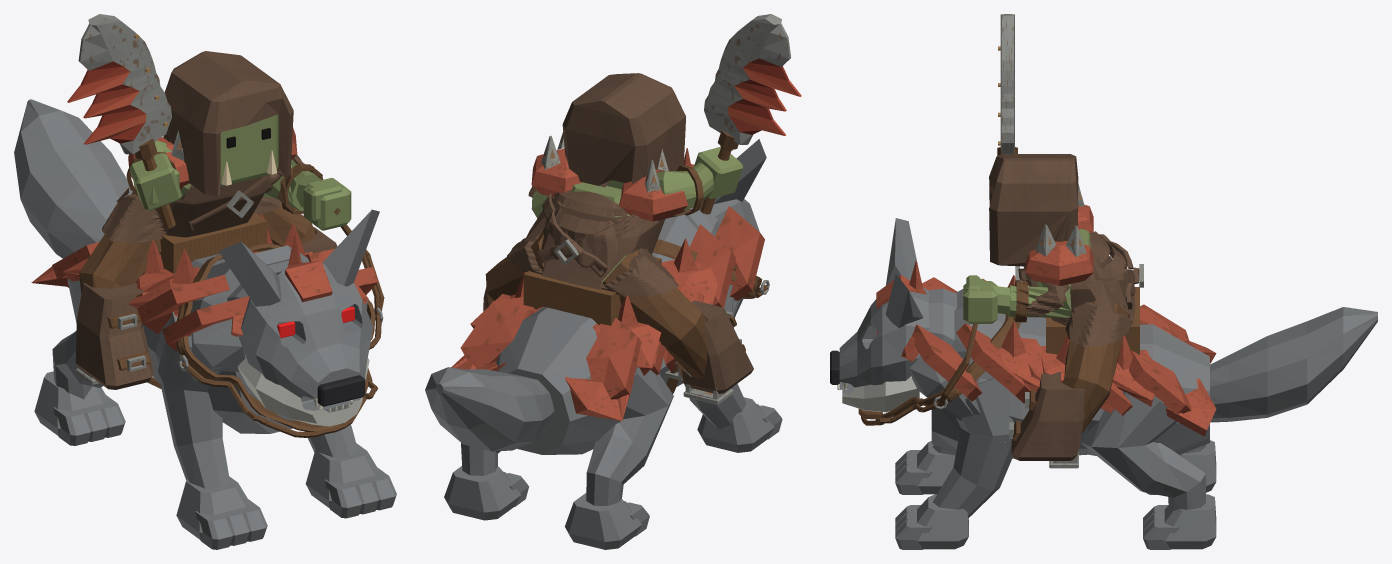
Rendered from host_19.glb.
The picture shows the model from 3 angles, left to right: view 1: azimuth 30°, elevation 25°; view 2: azimuth 150°, elevation 25°; view 3: azimuth 270°, elevation 25°; orthographic projection. The views are drawn at different scales.
Parts seen in each view (by area): view 1: Wolf — continuous source anatomy and real tail root, Rider hood — source real fitted roof, back and side curtains, Rider weapon — actual broad angular cleaver, Rider — RIGHT source boot, Rider — real hollow fitted leather vest, Source wolf mane — joined broad pointed neck and dorsal laye, Rider — continuous source torso, arms and seated hip transit, Head — continuous source square skull under helmet, Tack — thick native saddle, Wolf tack — actual closed under-neck source collar, Rider hand — LEFT connected source fist and wrist, Rider hand — RIGHT source compact planar grasp (+9 smaller); view 2: Wolf — continuous source anatomy and real tail root, Rider hood — source real fitted roof, back and side curtains, Source wolf mane — joined broad pointed neck and dorsal laye, Rider weapon — actual broad angular cleaver, Rider — continuous source torso, arms and seated hip transit, Rider — real hollow fitted leather vest, Source rider mantle — joined ragged shoulder and rear cloth, Rider — RIGHT source boot, Tack — thick native saddle, Rider armor — source red angular shoulder 1, Rider hand — RIGHT source compact planar grasp, Wolf armor — source flanking plate 1 3 (+8 smaller); view 3: Wolf — continuous source anatomy and real tail root, Rider hood — source real fitted roof, back and side curtains, Source wolf mane — joined broad pointed neck and dorsal laye, Rider — LEFT source boot, Rider — continuous source torso, arms and seated hip transit, Rider — real hollow fitted leather vest, Rider armor — source red angular shoulder -1, Rider weapon — actual broad angular cleaver, Rider hand — LEFT connected source fist and wrist, Source rider mantle — joined ragged shoulder and rear cloth, Wolf tack — actual closed under-neck source collar, Wolf armor — source flanking plate -1 3 (+5 smaller).
Boxes of the visible parts, <box> form: Wolf — continuous source anatomy and real tail root: <box>14,99,396,549</box>; Rider hood — source real fitted roof, back and side curtains: <box>163,51,293,195</box>; Rider weapon — actual broad angular cleaver: <box>67,14,171,154</box>; Rider — RIGHT source boot: <box>75,282,154,389</box>; Rider — real hollow fitted leather vest: <box>102,155,304,243</box>; Source wolf mane — joined broad pointed neck and dorsal laye: <box>52,242,377,351</box>; Rider — continuous source torso, arms and seated hip transit: <box>79,140,321,293</box>; Head — continuous source square skull under helmet: <box>220,114,278,186</box>; Tack — thick native saddle: <box>160,213,267,273</box>; Wolf tack — actual closed under-neck source collar: <box>176,243,374,431</box>; Rider hand — LEFT connected source fist and wrist: <box>296,177,351,230</box>; Rider hand — RIGHT source compact planar grasp: <box>129,153,181,210</box>; Wolf — continuous source anatomy and real tail root: <box>425,139,782,549</box>; Rider hood — source real fitted roof, back and side curtains: <box>562,73,685,187</box>; Source wolf mane — joined broad pointed neck and dorsal laye: <box>460,206,764,399</box>; Rider weapon — actual broad angular cleaver: <box>704,14,801,144</box>; Rider — continuous source torso, arms and seated hip transit: <box>485,171,707,378</box>; Rider — real hollow fitted leather vest: <box>507,186,690,295</box>; Source rider mantle — joined ragged shoulder and rear cloth: <box>524,190,643,274</box>; Rider — RIGHT source boot: <box>681,300,753,393</box>; Tack — thick native saddle: <box>523,257,661,325</box>; Rider armor — source red angular shoulder 1: <box>619,169,688,221</box>; Rider hand — RIGHT source compact planar grasp: <box>693,146,743,200</box>; Wolf armor — source flanking plate 1 3: <box>565,377,629,420</box>; Wolf — continuous source anatomy and real tail root: <box>837,218,1377,549</box>; Rider hood — source real fitted roof, back and side curtains: <box>989,154,1078,266</box>; Source wolf mane — joined broad pointed neck and dorsal laye: <box>912,277,1191,415</box>; Rider — LEFT source boot: <box>1011,372,1085,460</box>; Rider — continuous source torso, arms and seated hip transit: <box>1008,229,1128,433</box>; Rider — real hollow fitted leather vest: <box>1024,255,1135,346</box>; Rider armor — source red angular shoulder -1: <box>1025,240,1093,286</box>; Rider weapon — actual broad angular cleaver: <box>1000,14,1014,153</box>; Rider hand — LEFT connected source fist and wrist: <box>963,275,1010,323</box>; Source rider mantle — joined ragged shoulder and rear cloth: <box>1084,231,1130,314</box>; Wolf tack — actual closed under-neck source collar: <box>858,314,1020,419</box>; Wolf armor — source flanking plate -1 3: <box>1166,378,1216,436</box>.
Bounding box in the file's own units: 2.09 × 3.29 × 3.74.
Materials: 21 (16 with a texture image).
